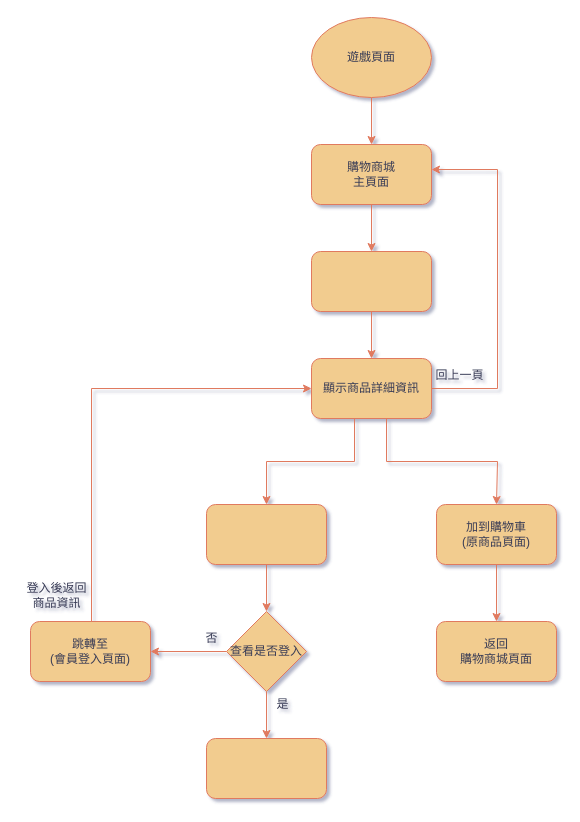
The diagram is 580 pixels wide and 822 high, and some of its shapes have lost their labels. Here are the shapes that lost their labels. From the top down, the centre of each, then its label:
point 371,281: 點選商品
point 266,534: 直接購買
point 266,768: 跳到轉至 (購物車頁面)
